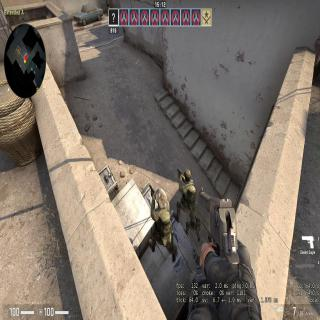CT-Body: (149, 185, 176, 259), (178, 166, 196, 214), (193, 208, 200, 235)
CT-Head: (154, 187, 168, 207), (180, 167, 192, 183)
